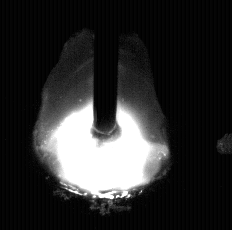arame: (94, 0, 118, 142)
poca: (33, 0, 168, 230)
